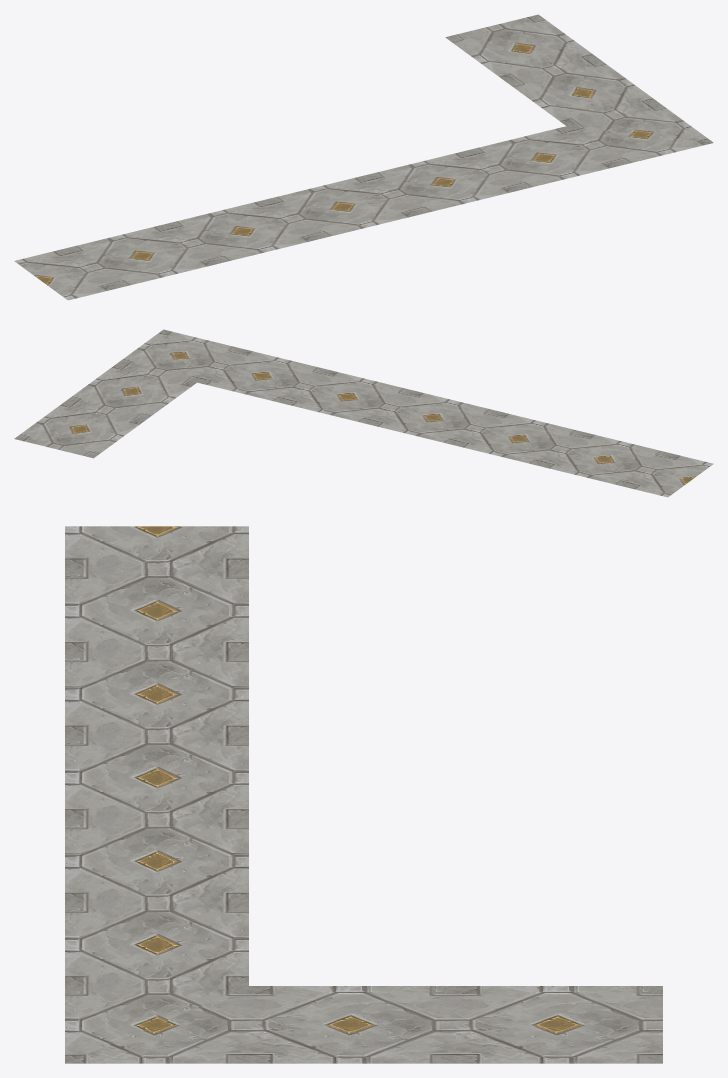
The model's file is cs_lobbynews02_jjc_wujian_dimian.FBX.
3 renders of one model, top to bottom at view 1: azimuth 30°, elevation 25°; view 2: azimuth 150°, elevation 25°; view 3: azimuth 270°, elevation 25°, orthographic. The views are drawn at different scales.
Visible parts, largest first — view 1: cs_lobbynews02_jjc_wujian_dimian; view 2: cs_lobbynews02_jjc_wujian_dimian; view 3: cs_lobbynews02_jjc_wujian_dimian.
Boxes of the visible parts, x1,y1,x2,y2 form: cs_lobbynews02_jjc_wujian_dimian: (14,14,713,300); cs_lobbynews02_jjc_wujian_dimian: (14,329,713,497); cs_lobbynews02_jjc_wujian_dimian: (65,526,662,1063).
Bounding box in the file's own units: 1231 × 579 × 0.000244.
